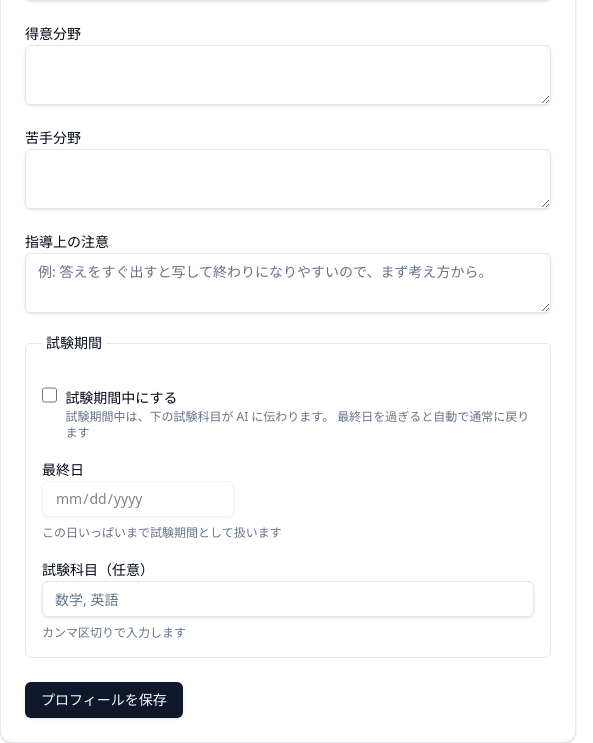
StudentProfileForm（H-9: 二重送信） › 保存成功直後は保存ボタンを無効にする
(page scrolled)
Click the button "プロフィールを保存": [104, 700] box 25,682 -> 183,718
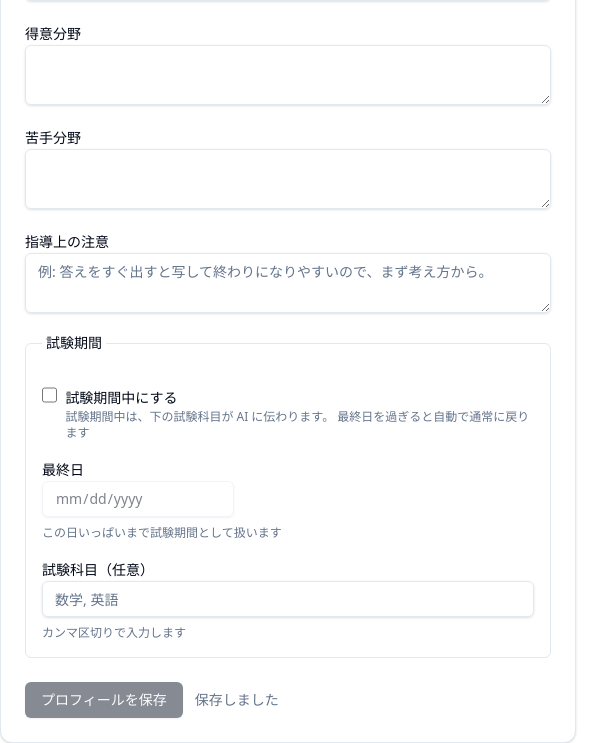
Expected: the button "プロフィールを保存" is disabled, 25,682 -> 183,718
